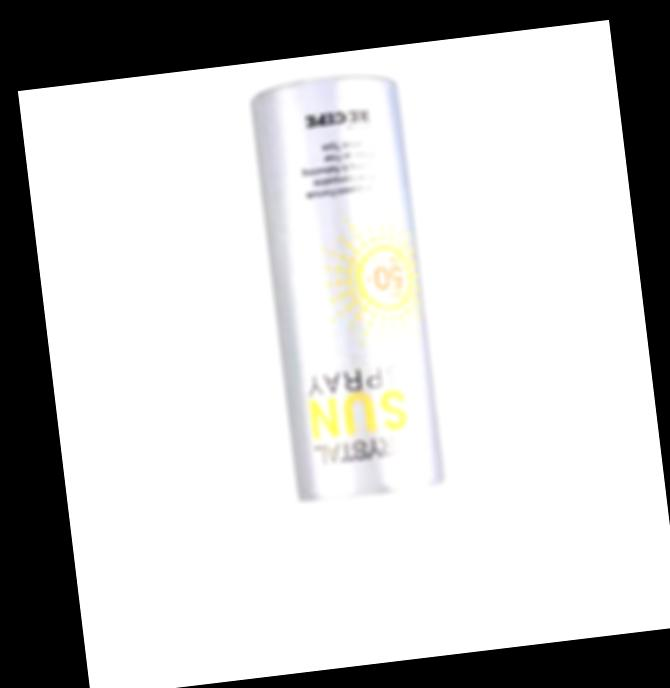cosmetic: (243, 70, 461, 642)
